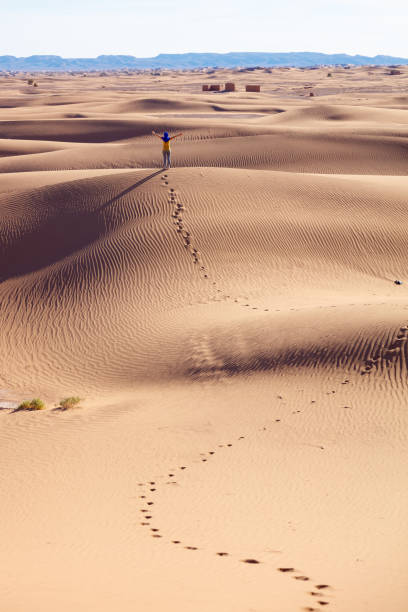human_foot_print: (214, 550, 267, 564)
